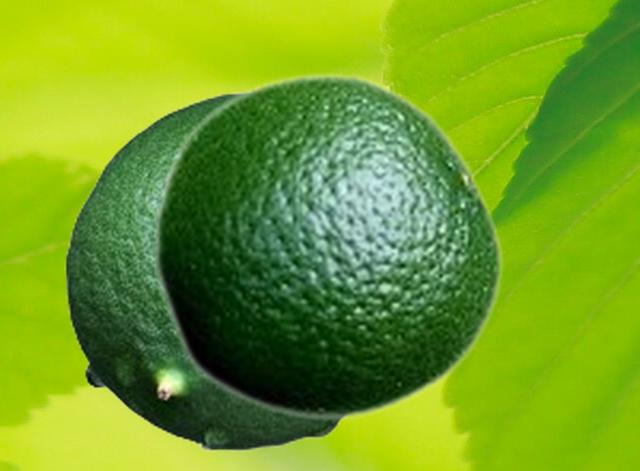calamansi: (150, 71, 504, 422), (64, 90, 345, 450)
